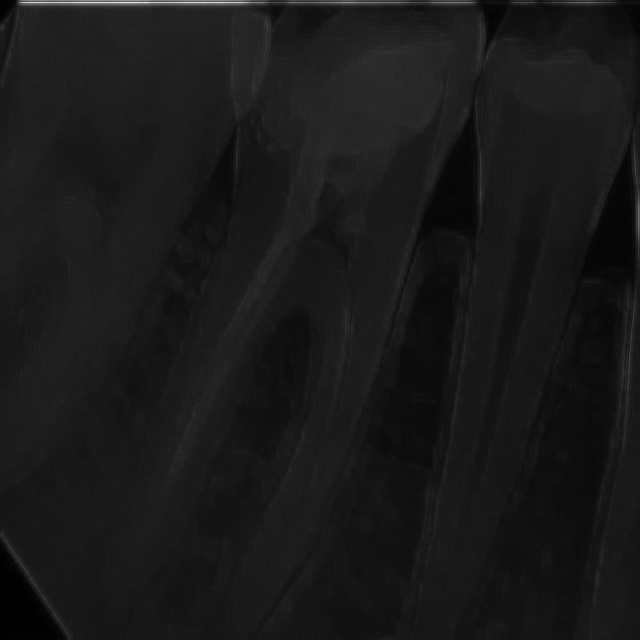Class 1- complete endodontic treatment: (149, 48, 434, 633)
